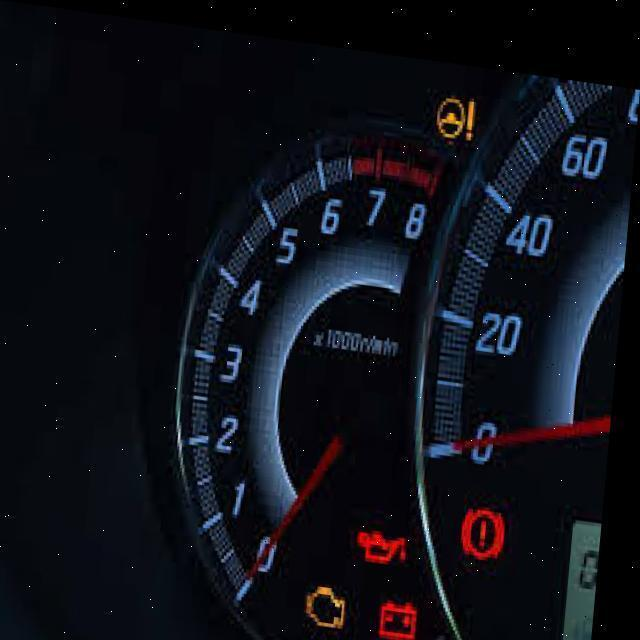Electronic Power Steering Warning: (436, 94, 475, 145)
